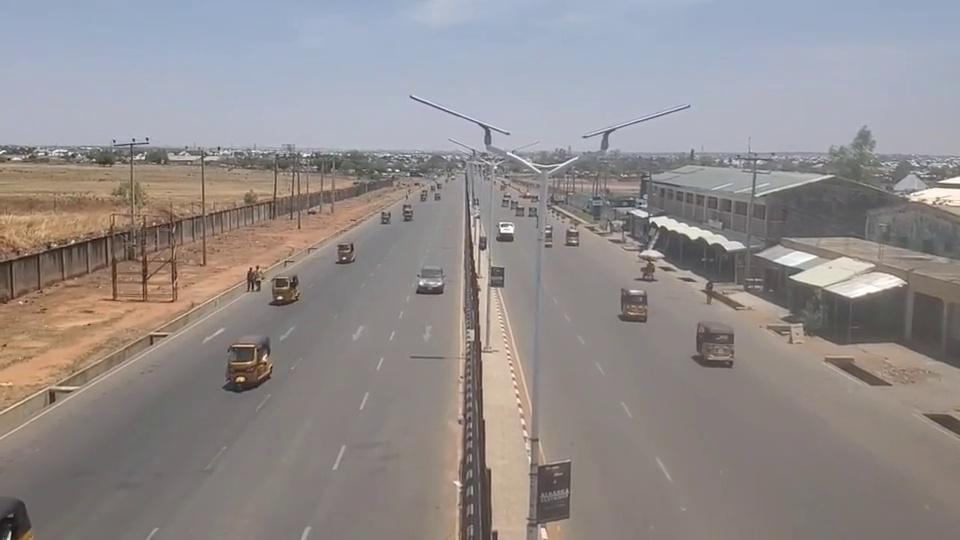keke: (225, 334, 273, 390), (695, 319, 734, 367), (619, 287, 648, 322)
